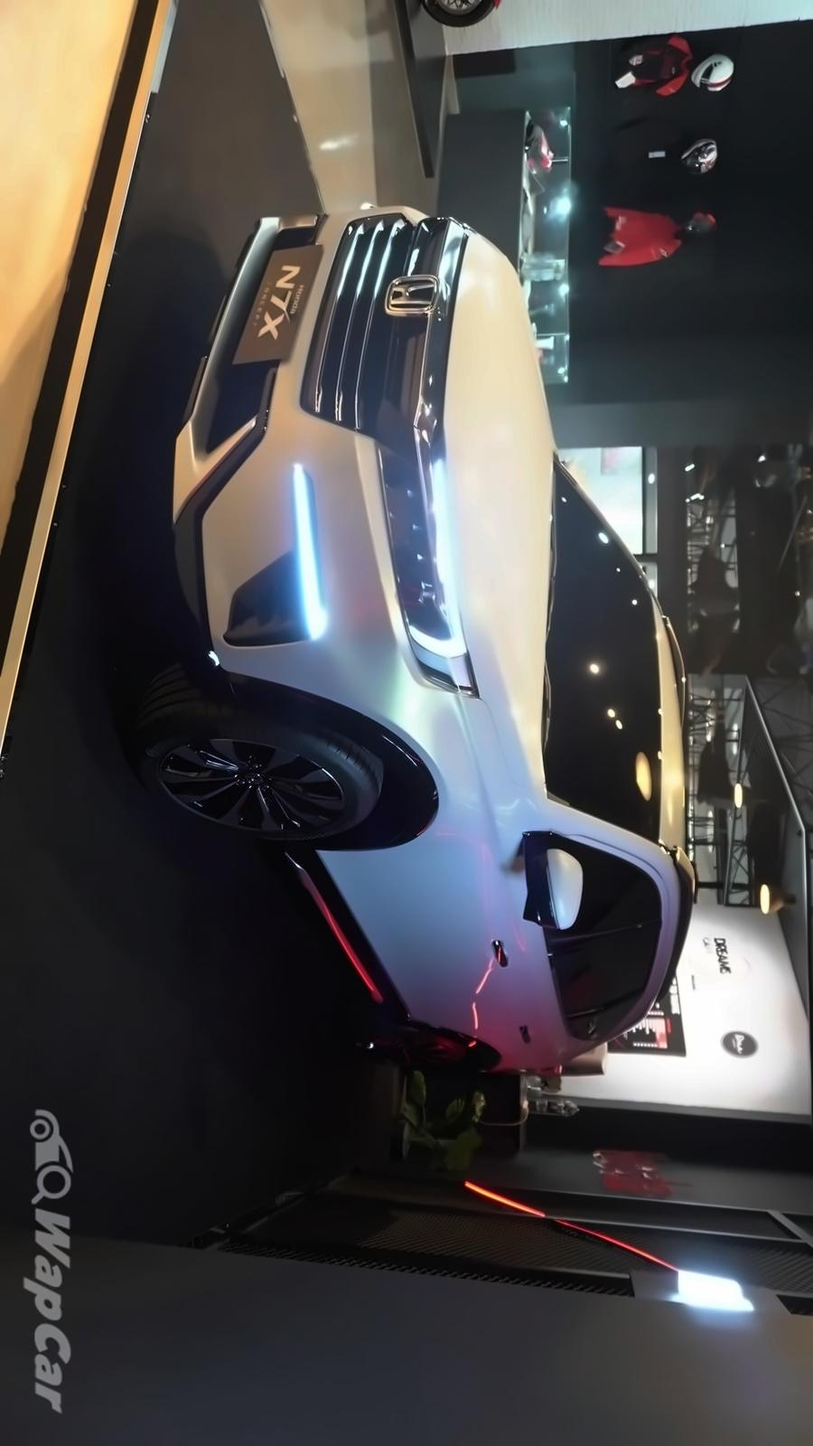Car hood: (432, 228, 573, 803)
Fender - -F-L-: (283, 687, 609, 875)
Front bumper: (163, 195, 440, 734)
Headlight - -L-: (377, 427, 495, 700)
Headlight - -R-: (412, 213, 479, 297)
Passenger-s door - -F-L-: (310, 807, 707, 989)
Passenger-s door - -R-L-: (345, 935, 689, 1064)
Side bumper - -L-: (264, 809, 434, 1042)
Side mirror - -L-: (515, 845, 591, 951)
